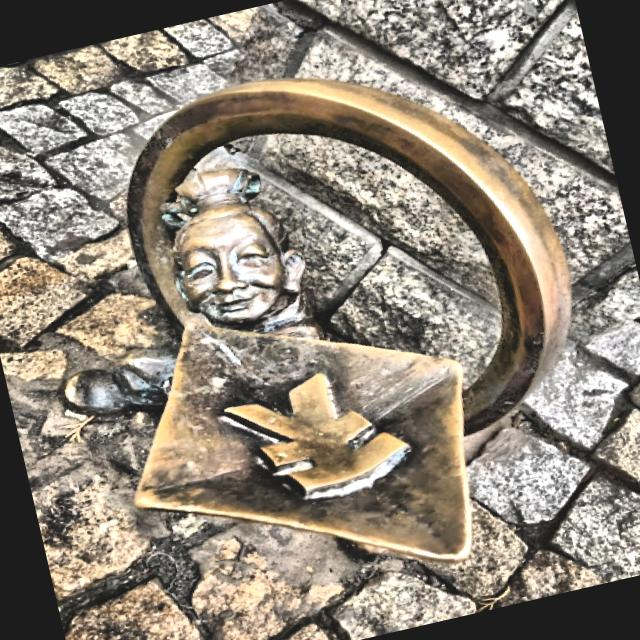TianTian: (65, 78, 570, 559)
